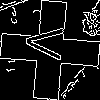V: (25, 25, 73, 62)
